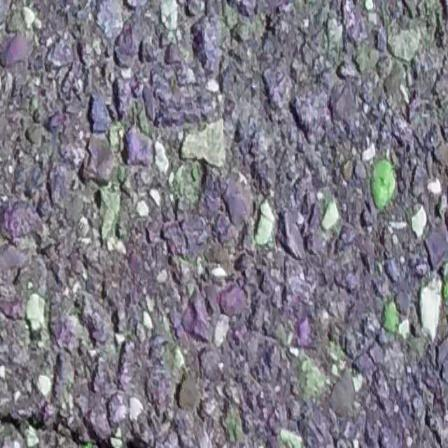crack: (0, 389, 155, 448)
